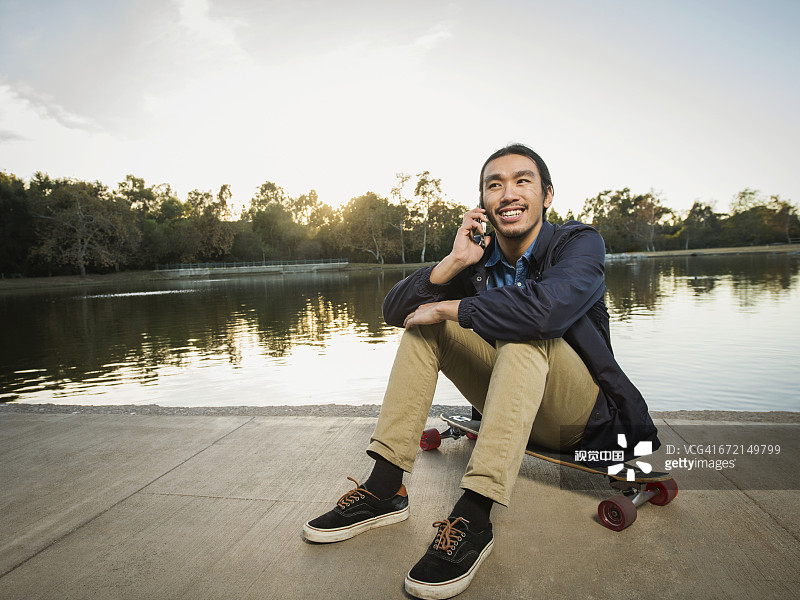calling: (425, 194, 502, 286)
